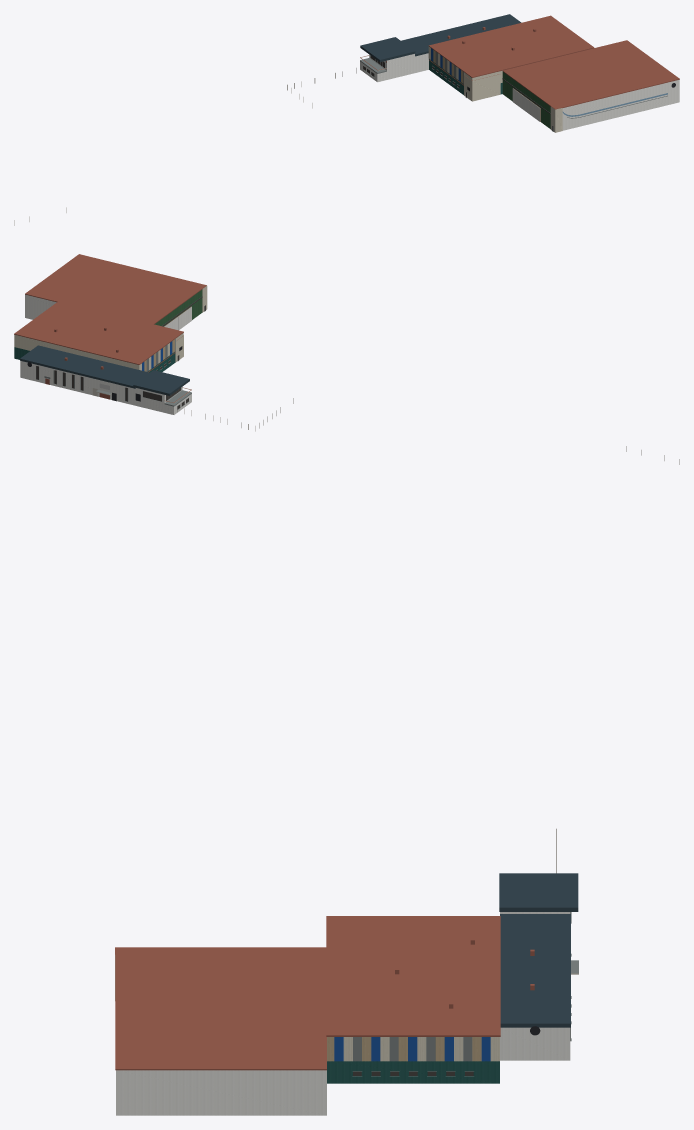
Rendered from cyxd_hangar18_lod1.gltf.
The picture shows the model from 3 angles, top to bottom: view 1: azimuth 30°, elevation 25°; view 2: azimuth 150°, elevation 25°; view 3: azimuth 270°, elevation 25°; orthographic projection. The views are drawn at different scales.
Visible parts, largest first — view 1: cyxd_hangar18; view 2: cyxd_hangar18; view 3: cyxd_hangar18.
Part boxes in pixels (left/top/right/bottom): cyxd_hangar18: left=14, top=14, right=679, bottom=225; cyxd_hangar18: left=14, top=254, right=679, bottom=464; cyxd_hangar18: left=115, top=828, right=578, bottom=1115.
Size of the model in its own units: 267 by 10.8 by 85.76.
